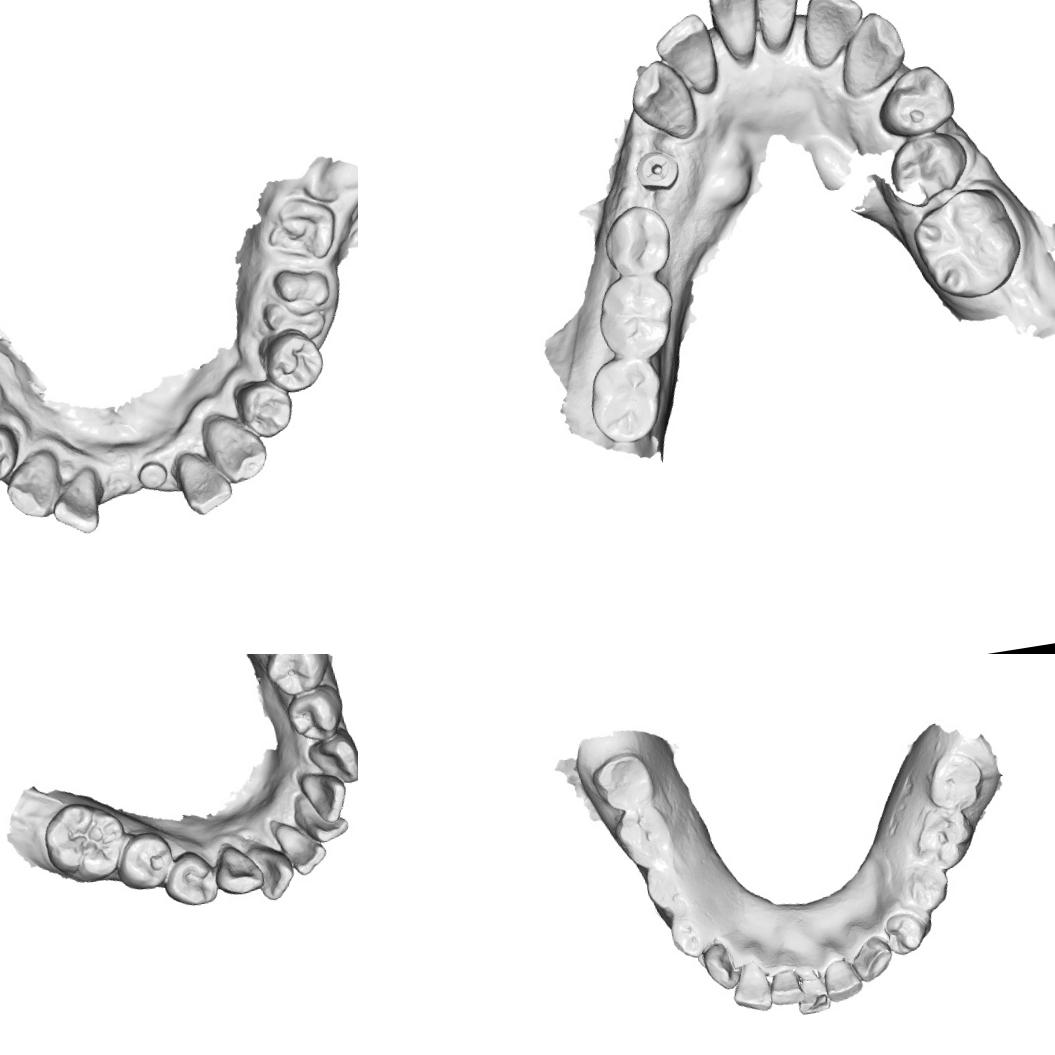canine: (830, 5, 911, 99), (623, 55, 702, 148), (0, 445, 68, 524), (203, 410, 269, 488), (305, 728, 358, 791), (210, 840, 262, 899), (696, 939, 742, 996), (846, 934, 897, 985)
implant: (133, 456, 170, 494)
implant_plus: (630, 146, 686, 198)
incisor: (650, 5, 722, 100), (791, 0, 872, 70), (176, 448, 235, 518), (702, 0, 767, 62), (51, 473, 111, 537), (276, 816, 328, 882), (249, 839, 298, 905), (745, 0, 812, 48), (727, 956, 778, 1018), (300, 770, 354, 827), (292, 805, 352, 848), (791, 961, 833, 1019), (820, 955, 866, 1005), (764, 965, 806, 1010)
molar: (905, 182, 1026, 310), (582, 353, 670, 449), (587, 271, 678, 363), (40, 798, 129, 888), (907, 802, 980, 875), (586, 748, 659, 819), (609, 803, 680, 874), (920, 748, 990, 817)
premolar: (868, 56, 962, 143), (882, 128, 976, 210), (597, 199, 676, 280), (256, 324, 330, 397), (229, 374, 298, 447), (118, 826, 179, 894), (164, 848, 218, 914), (288, 685, 344, 741), (902, 861, 954, 918), (878, 906, 932, 960), (666, 904, 716, 962), (261, 654, 328, 696), (641, 864, 691, 916), (0, 423, 23, 488)
